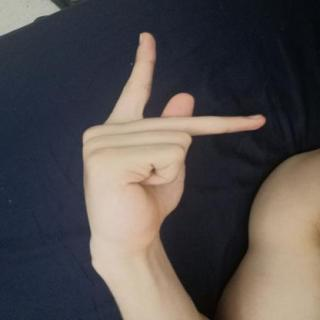DHAA: (63, 24, 279, 264)
